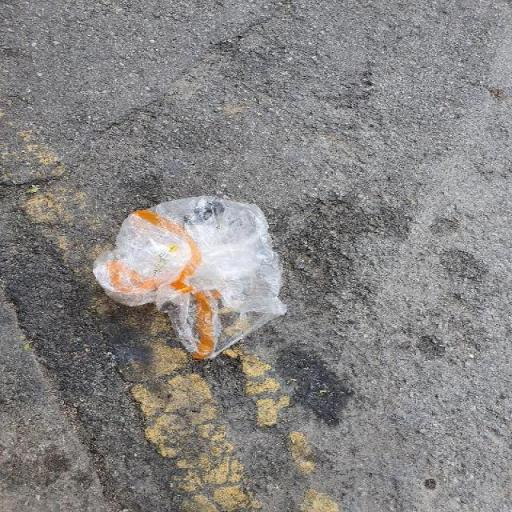plastic-bag: (86, 193, 292, 361)
